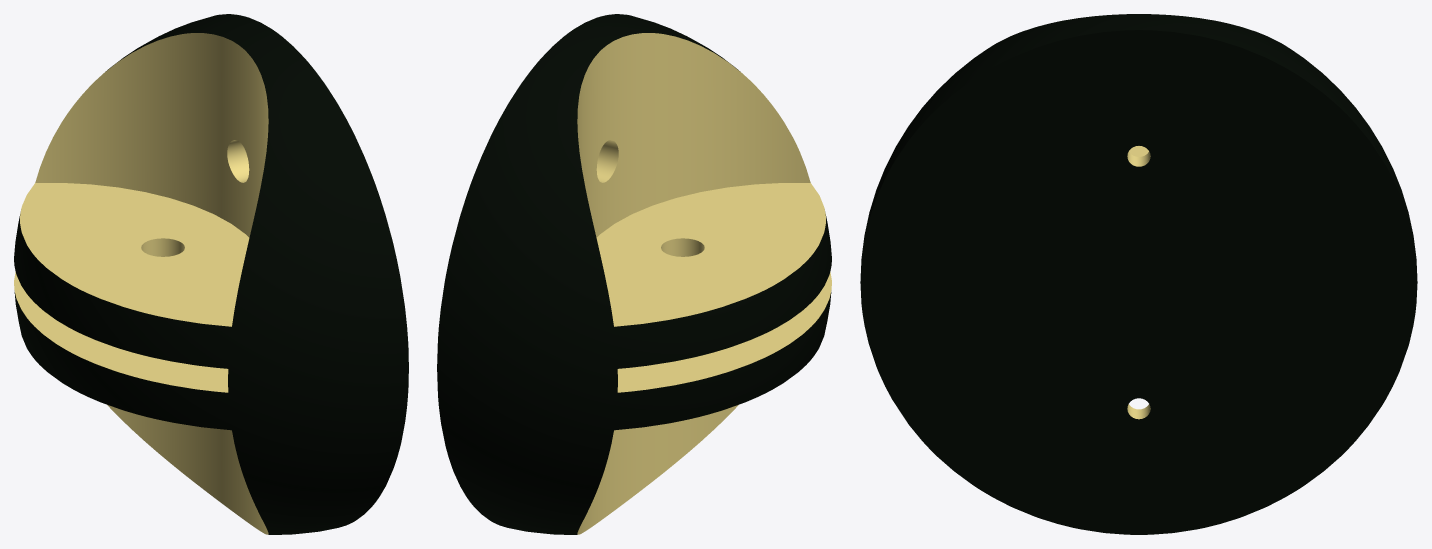
File: Practice48_2.glb
3 renders of one model, left to right at view 1: azimuth 30°, elevation 25°; view 2: azimuth 150°, elevation 25°; view 3: azimuth 270°, elevation 25°, orthographic. The views are drawn at different scales.
Parts seen in each view (by area): view 1: Part 2 - Part, Part - Part; view 2: Part 2 - Part, Part - Part; view 3: Part 2 - Part, Part - Part.
Boxes of the visible parts, <box> form: Part 2 - Part: <box>14,14,408,534</box>; Part - Part: <box>14,33,268,534</box>; Part 2 - Part: <box>437,14,831,534</box>; Part - Part: <box>577,33,831,534</box>; Part 2 - Part: <box>860,14,1417,534</box>; Part - Part: <box>1127,146,1150,419</box>.
Size of the model in its own units: 0.7604 by 1.52 by 1.52.
